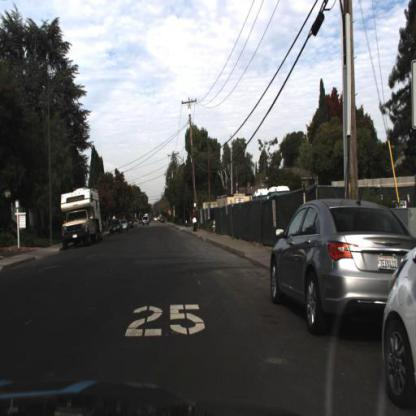car: (271, 198, 416, 339), (381, 241, 416, 411), (104, 213, 125, 238)
pedestrian: (192, 209, 199, 233)
truck: (59, 189, 103, 250)
